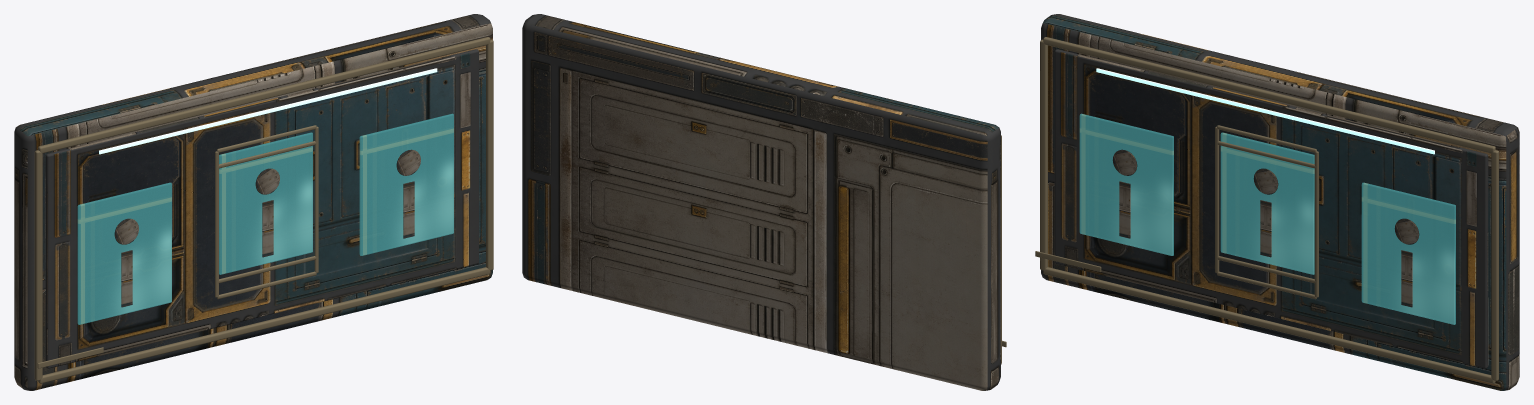
File: hp_room_fake_family_photo_wall.glb
3 views of the same model, side by side, from view 1: azimuth 30°, elevation 25°; view 2: azimuth 150°, elevation 25°; view 3: azimuth 330°, elevation 25° (orthographic).
Visible parts, largest first — view 1: cool_gray_inner_wall_face, wall_mount_backplate, image2_false_family_photo_panel_0, image2_false_family_photo_panel_2, image2_false_family_photo_panel_1, outer_memory_frame_top, outer_memory_frame_bottom, outer_memory_frame_left, outer_memory_frame_right, thin_cyan_top_scanline, abstract_body_marker_0, abstract_body_marker_1 (+11 smaller); view 2: wall_mount_backplate; view 3: cool_gray_inner_wall_face, wall_mount_backplate, image2_false_family_photo_panel_2, image2_false_family_photo_panel_0, image2_false_family_photo_panel_1, outer_memory_frame_top, outer_memory_frame_bottom, outer_memory_frame_right, outer_memory_frame_left, thin_cyan_top_scanline, abstract_body_marker_0, abstract_body_marker_2 (+11 smaller).
Boxes of the visible parts, bbox=[...] form: cool_gray_inner_wall_face: bbox=[45, 49, 478, 368]; wall_mount_backplate: bbox=[14, 14, 492, 390]; image2_false_family_photo_panel_0: bbox=[77, 182, 171, 324]; image2_false_family_photo_panel_2: bbox=[359, 113, 453, 255]; image2_false_family_photo_panel_1: bbox=[219, 132, 312, 274]; outer_memory_frame_top: bbox=[38, 37, 490, 153]; outer_memory_frame_bottom: bbox=[38, 267, 490, 383]; outer_memory_frame_left: bbox=[34, 150, 42, 380]; outer_memory_frame_right: bbox=[486, 39, 493, 270]; thin_cyan_top_scanline: bbox=[99, 68, 437, 154]; abstract_body_marker_0: bbox=[121, 250, 132, 307]; abstract_body_marker_1: bbox=[262, 200, 273, 257]; wall_mount_backplate: bbox=[522, 14, 1000, 390]; cool_gray_inner_wall_face: bbox=[1054, 49, 1488, 368]; wall_mount_backplate: bbox=[1041, 14, 1519, 390]; image2_false_family_photo_panel_2: bbox=[1361, 182, 1455, 324]; image2_false_family_photo_panel_0: bbox=[1079, 113, 1173, 255]; image2_false_family_photo_panel_1: bbox=[1220, 132, 1314, 274]; outer_memory_frame_top: bbox=[1043, 37, 1495, 153]; outer_memory_frame_bottom: bbox=[1043, 267, 1495, 383]; outer_memory_frame_right: bbox=[1491, 150, 1498, 380]; outer_memory_frame_left: bbox=[1040, 39, 1047, 270]; thin_cyan_top_scanline: bbox=[1096, 68, 1434, 154]; abstract_body_marker_0: bbox=[1119, 181, 1130, 238]; abstract_body_marker_2: bbox=[1401, 250, 1412, 307].
Bounding box in the file's own units: 3.17 × 1.68 × 0.2696.
5 materials, 3 textured.
